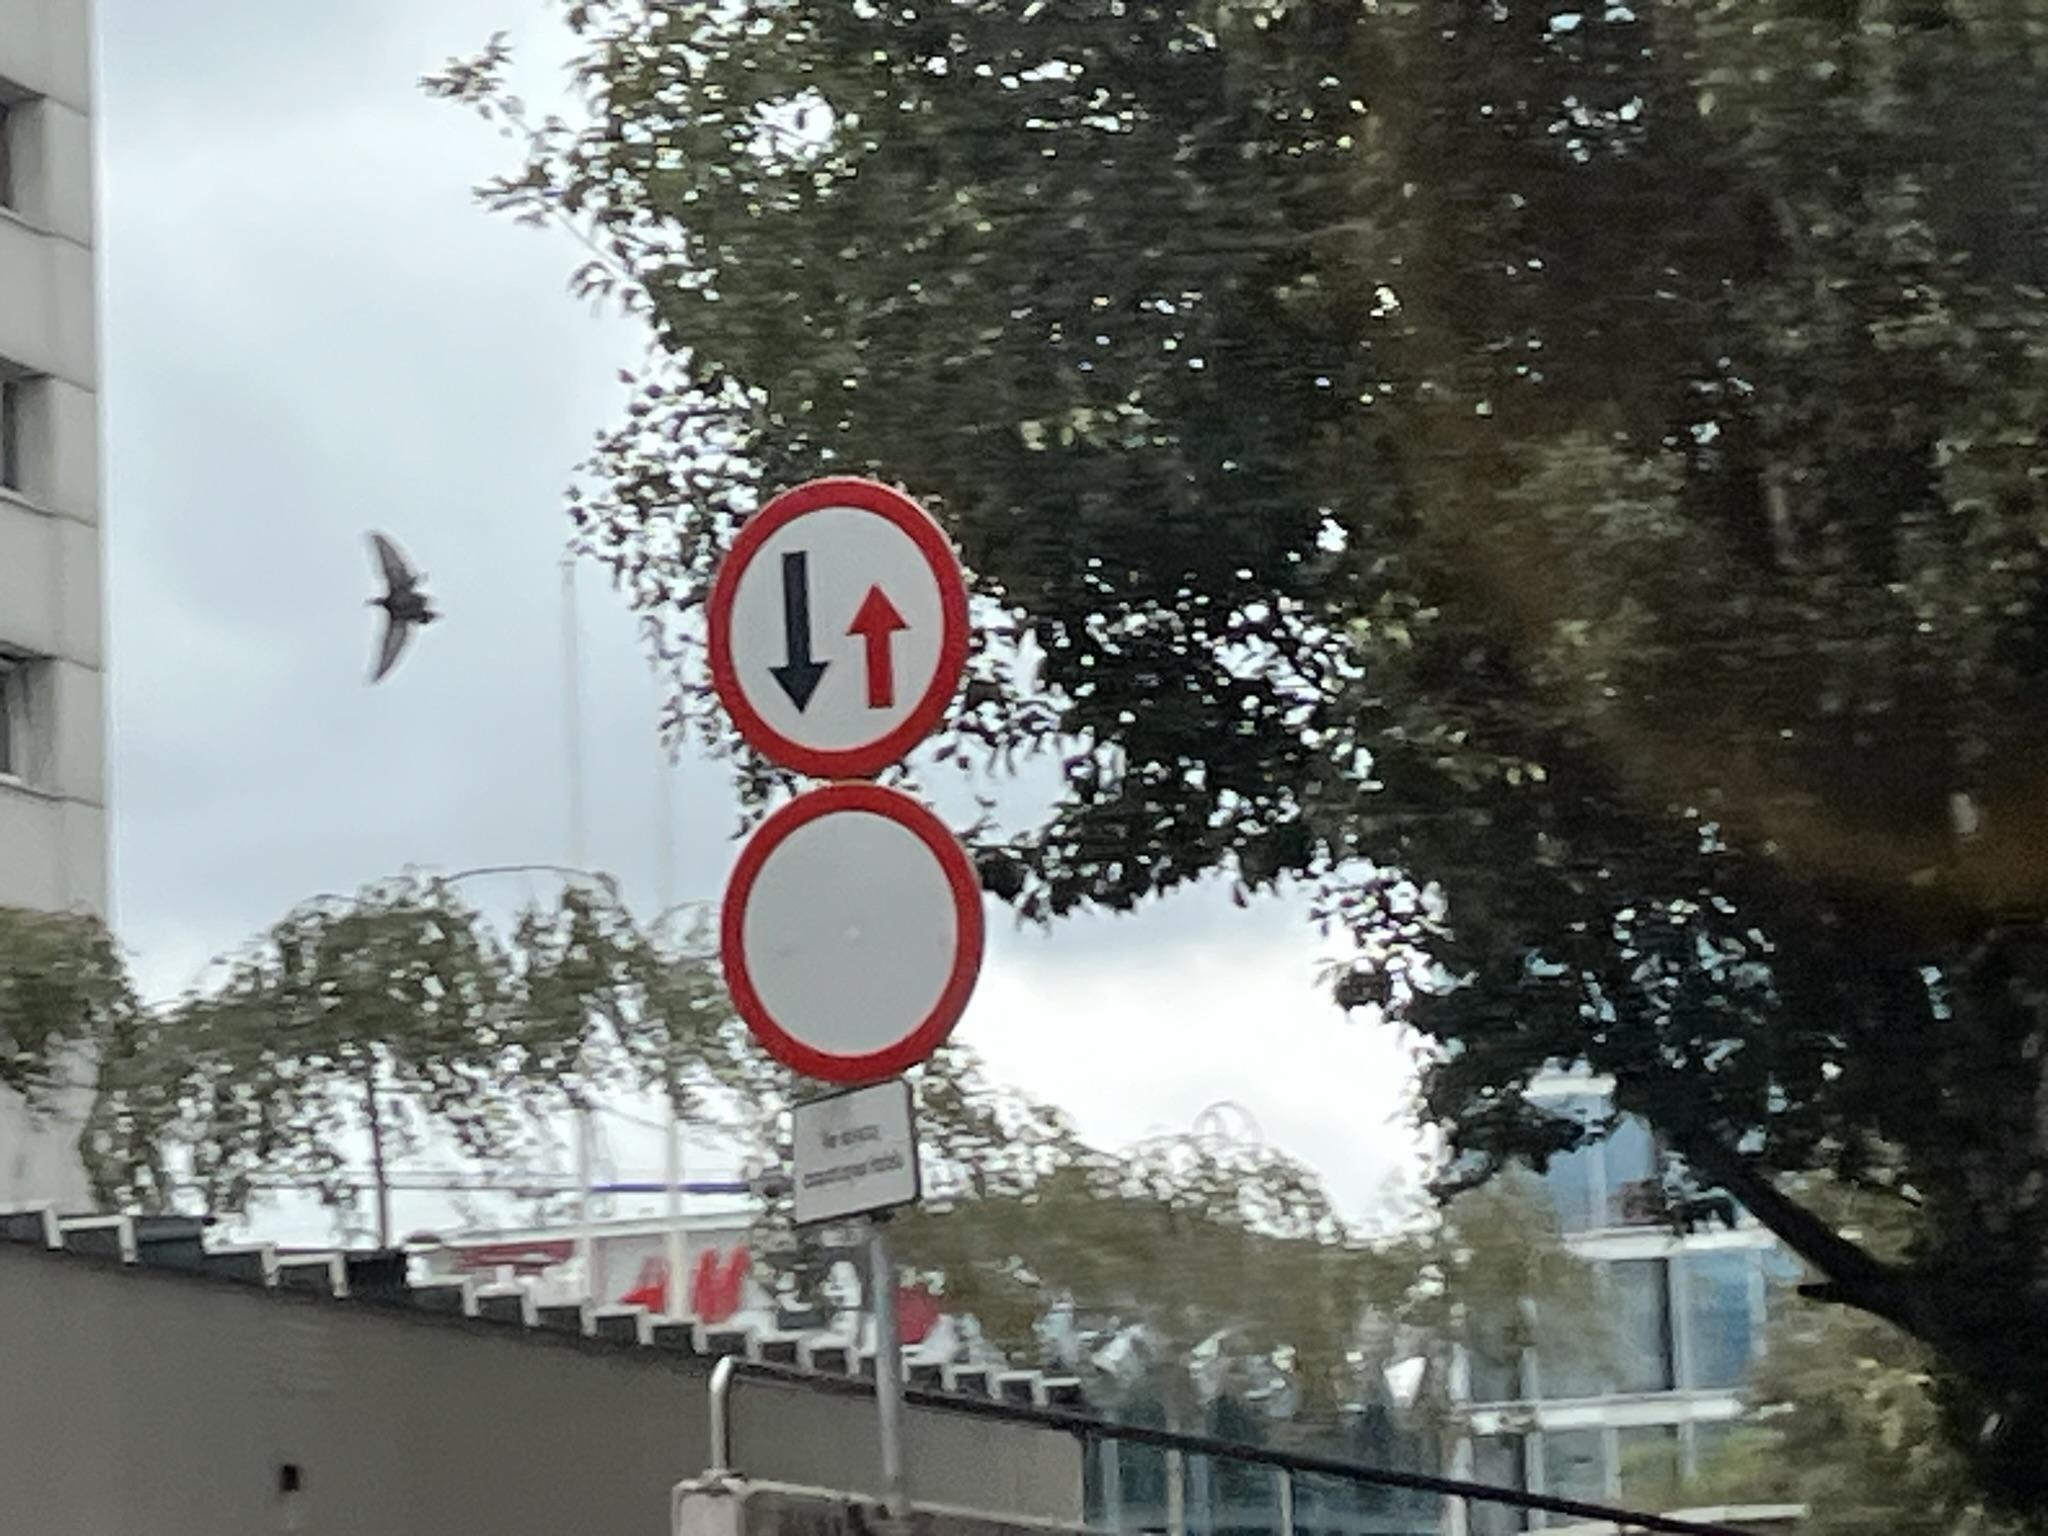other: (790, 1083, 927, 1229)
prohibitory: (708, 474, 971, 783), (718, 784, 985, 1086)
